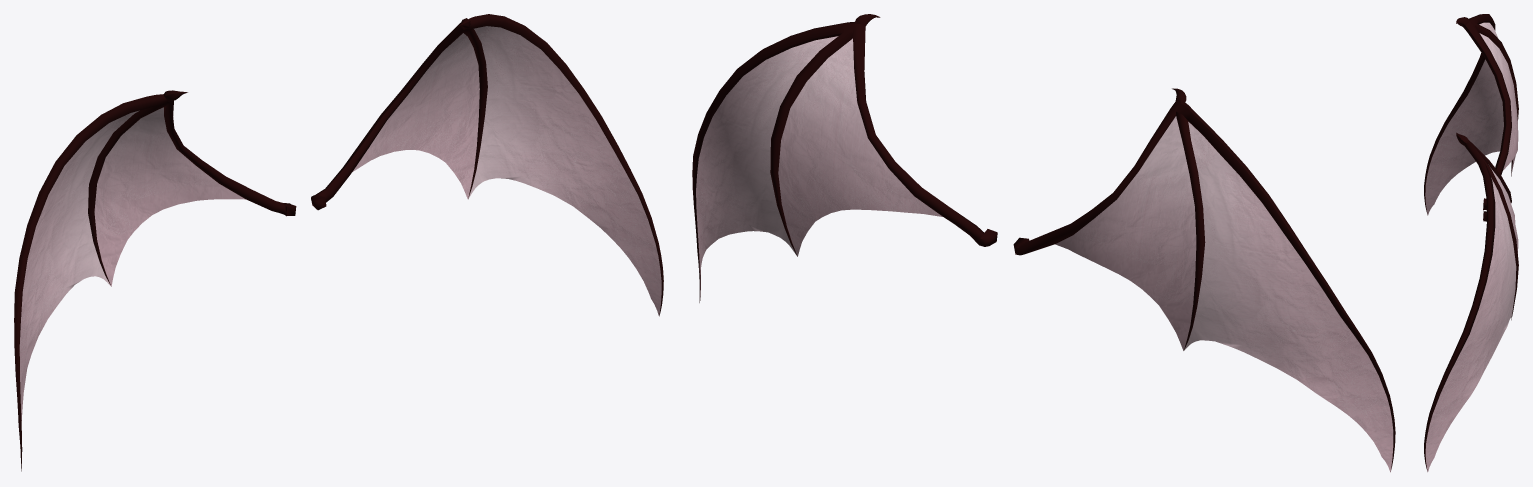
Rendered from wings.obj.
3 views of the same model, side by side, from view 1: azimuth 30°, elevation 25°; view 2: azimuth 150°, elevation 25°; view 3: azimuth 270°, elevation 25° (orthographic). The views are drawn at different scales.
Visible parts, largest first — view 1: 羽裏_Remilia_Scarlet_mesh_Remilia_Scarlet.011, 羽骨_Remilia_Scarlet_mesh_Remilia_Scarlet.018, 羽表_Remilia_Scarlet_mesh_Remilia_Scarlet.051; view 2: 羽裏_Remilia_Scarlet_mesh_Remilia_Scarlet.011, 羽表_Remilia_Scarlet_mesh_Remilia_Scarlet.051, 羽骨_Remilia_Scarlet_mesh_Remilia_Scarlet.018; view 3: 羽裏_Remilia_Scarlet_mesh_Remilia_Scarlet.011, 羽骨_Remilia_Scarlet_mesh_Remilia_Scarlet.018, 羽表_Remilia_Scarlet_mesh_Remilia_Scarlet.051.
Part boxes in pixels (left/top/right/bottom): 羽裏_Remilia_Scarlet_mesh_Remilia_Scarlet.011: left=19, top=26, right=661, bottom=420; 羽骨_Remilia_Scarlet_mesh_Remilia_Scarlet.018: left=14, top=14, right=663, bottom=471; 羽表_Remilia_Scarlet_mesh_Remilia_Scarlet.051: left=19, top=27, right=661, bottom=410; 羽裏_Remilia_Scarlet_mesh_Remilia_Scarlet.011: left=696, top=36, right=1393, bottom=472; 羽表_Remilia_Scarlet_mesh_Remilia_Scarlet.051: left=696, top=37, right=1392, bottom=463; 羽骨_Remilia_Scarlet_mesh_Remilia_Scarlet.018: left=692, top=14, right=1395, bottom=471; 羽裏_Remilia_Scarlet_mesh_Remilia_Scarlet.011: left=1425, top=22, right=1518, bottom=472; 羽骨_Remilia_Scarlet_mesh_Remilia_Scarlet.018: left=1424, top=14, right=1518, bottom=471; 羽表_Remilia_Scarlet_mesh_Remilia_Scarlet.051: left=1425, top=22, right=1517, bottom=471.
Size of the model in its own units: 1.39 by 0.6697 by 0.2148.
